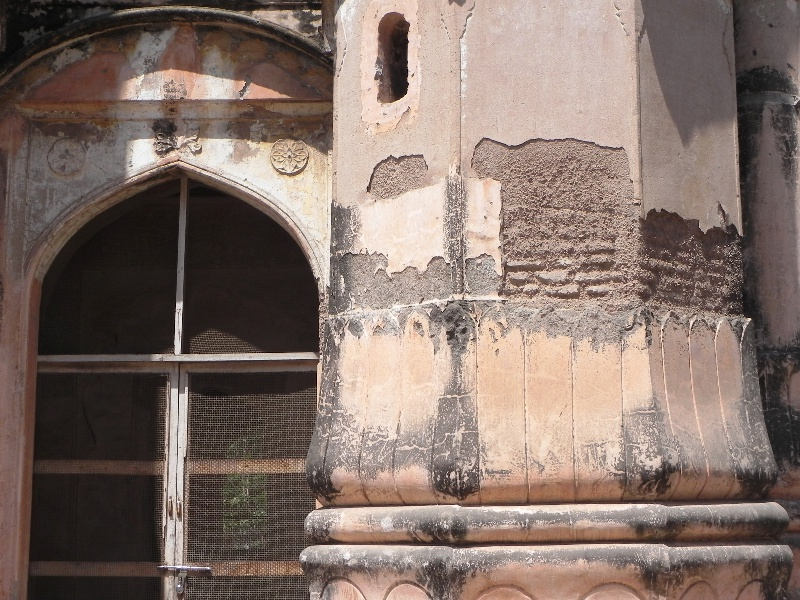Exposed Bricks: (499, 238, 625, 298), (638, 242, 734, 305)
Spalling: (467, 135, 639, 215), (343, 250, 498, 299), (359, 149, 434, 198)
